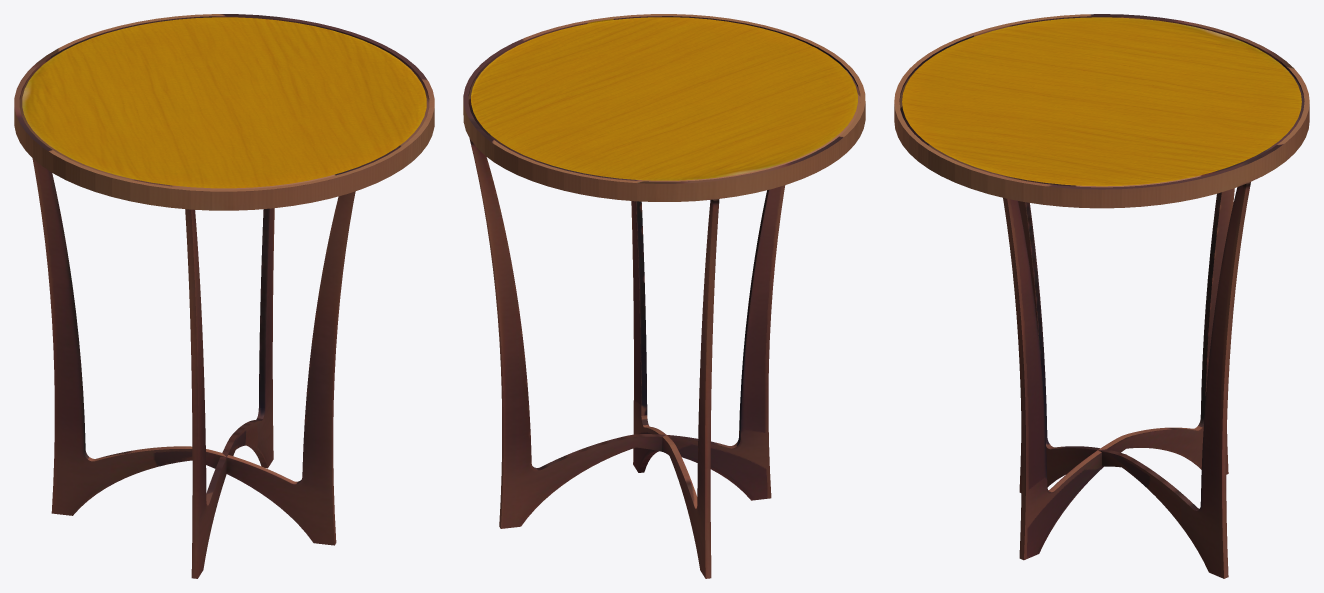
File: edited_mesh.glb
The picture shows the model from 3 angles, left to right: view 1: azimuth 30°, elevation 25°; view 2: azimuth 150°, elevation 25°; view 3: azimuth 270°, elevation 25°; orthographic projection. The views are drawn at different scales.
Visible parts, largest first — view 1: solid_001_wire; view 2: solid_001_wire; view 3: solid_001_wire.
Boxes of the visible parts, bbox=[...] form: solid_001_wire: bbox=[14, 14, 434, 578]; solid_001_wire: bbox=[463, 14, 865, 578]; solid_001_wire: bbox=[894, 14, 1309, 578].
Size of the model in its own units: 1.23 by 1.38 by 1.23.
1 material, 1 textured.
